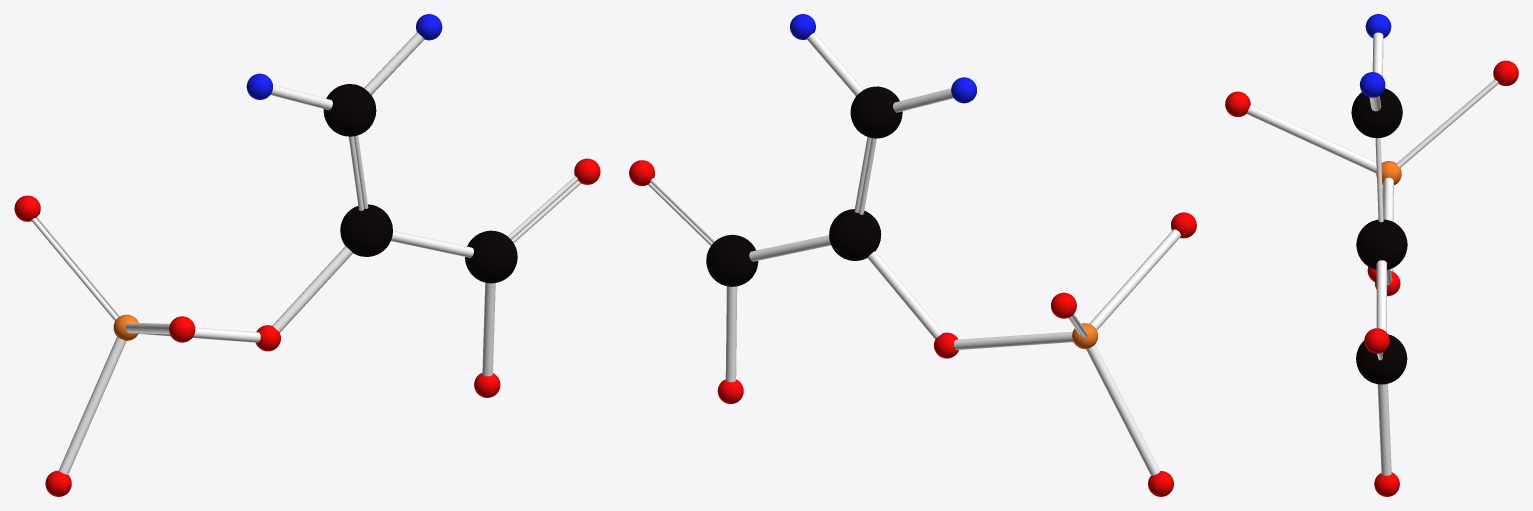
Rendered from phosphoenolpyruvate_color.fbx.
The picture shows the model from 3 angles, left to right: view 1: azimuth 30°, elevation 25°; view 2: azimuth 150°, elevation 25°; view 3: azimuth 270°, elevation 25°; orthographic projection. The views are drawn at different scales.
Visible parts, largest first — view 1: Atom6_Clone_, Atom6_Clone___1_, Atom6_Clone___2_, Bond1_Clone___1_, Bond1_Clone___3_, Bond1_Clone___6_, Bond1_Clone___8_, Bond1_Clone___10_, Bond1_Clone_, Bond2B, Bond1_Clone___9_, Bond2A; view 2: Atom6_Clone_, Atom6_Clone___1_, Atom6_Clone___2_, Bond1_Clone___1_, Bond1_Clone___2_, Bond1_Clone_, Bond1_Clone___3_, Bond1_Clone___6_, Bond1_Clone___8_, Bond1_Clone___10_, Bond1_Clone___9_; view 3: Atom6_Clone_, Atom6_Clone___2_, Atom6_Clone___1_, Bond1_Clone___2_, Bond1_Clone___6_, Bond1_Clone___8_, Bond2A, AtomMissing_Clone___6_, Atom1_Clone___1_, AtomMissing_Clone___4_, AtomMissing_Clone___3_, AtomMissing_Clone___5_ (+5 smaller).
Part boxes in pixels (box(x1,y1,x2,y2)): Atom6_Clone_: box(340, 204, 392, 256); Atom6_Clone___1_: box(465, 230, 517, 283); Atom6_Clone___2_: box(323, 84, 376, 136); Bond1_Clone___1_: box(58, 337, 126, 474); Bond1_Clone___3_: box(272, 246, 352, 332); Bond1_Clone___6_: box(482, 282, 495, 376); Bond1_Clone___8_: box(391, 231, 473, 257); Bond1_Clone___10_: box(364, 32, 424, 94); Bond1_Clone_: box(138, 327, 260, 342); Bond2B: box(31, 218, 118, 320); Bond1_Clone___9_: box(270, 85, 332, 110); Bond2A: box(36, 215, 122, 317); Atom6_Clone_: box(829, 209, 881, 260); Atom6_Clone___1_: box(706, 234, 758, 286); Atom6_Clone___2_: box(850, 86, 902, 138); Bond1_Clone___1_: box(1086, 344, 1160, 475); Bond1_Clone___2_: box(1089, 229, 1180, 330); Bond1_Clone_: box(954, 331, 1073, 349); Bond1_Clone___3_: box(867, 251, 942, 339); Bond1_Clone___6_: box(725, 286, 737, 382); Bond1_Clone___8_: box(749, 235, 830, 261); Bond1_Clone___10_: box(806, 32, 863, 95); Bond1_Clone___9_: box(893, 88, 953, 112); Atom6_Clone_: box(1356, 219, 1407, 269); Atom6_Clone___2_: box(1351, 88, 1402, 138); Atom6_Clone___1_: box(1356, 334, 1407, 384); Bond1_Clone___2_: box(1246, 105, 1376, 173); Bond1_Clone___6_: box(1377, 383, 1391, 475); Bond1_Clone___8_: box(1376, 260, 1386, 332); Bond2A: box(1397, 80, 1498, 167); AtomMissing_Clone___6_: box(1364, 328, 1389, 353); Atom1_Clone___1_: box(1359, 72, 1385, 97); AtomMissing_Clone___4_: box(1493, 60, 1518, 86); AtomMissing_Clone___3_: box(1225, 91, 1250, 116); AtomMissing_Clone___5_: box(1374, 472, 1399, 496).
Size of the model in its own units: 600 by 420 by 286.
